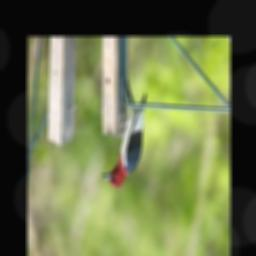Woodpecker: (101, 93, 146, 188)
